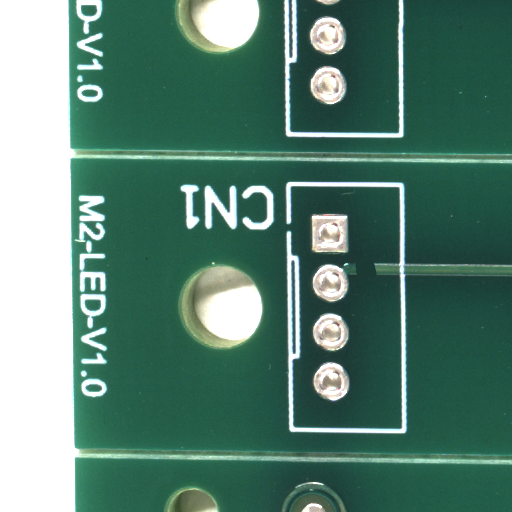Open_circuit: (366, 269, 389, 286)
